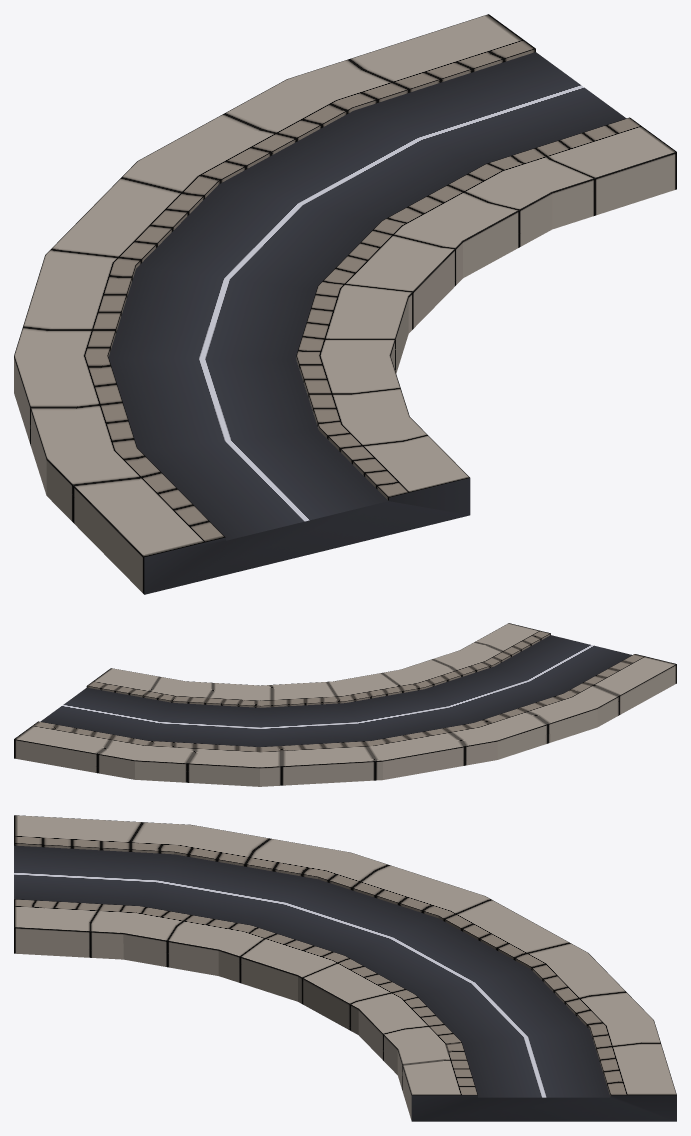
Rendered from CityRoadCurve90.fbx.
3 renders of one model, top to bottom at view 1: azimuth 30°, elevation 25°; view 2: azimuth 150°, elevation 25°; view 3: azimuth 270°, elevation 25°, orthographic. The views are drawn at different scales.
Parts seen in each view (by area): view 1: CityRoadCurve90; view 2: CityRoadCurve90; view 3: CityRoadCurve90.
Boxes of the visible parts, bbox=[...] form: CityRoadCurve90: bbox=[14, 14, 676, 594]; CityRoadCurve90: bbox=[14, 623, 676, 786]; CityRoadCurve90: bbox=[14, 815, 676, 1121].
Bounding box in the file's own units: 4000 × 176 × 4000.
